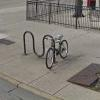Bicycle: (45, 34, 70, 70)
